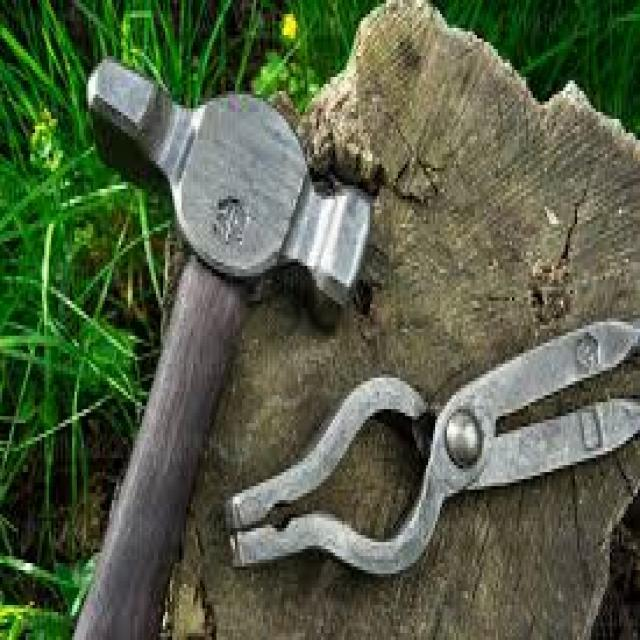hammer: (76, 56, 386, 640)
